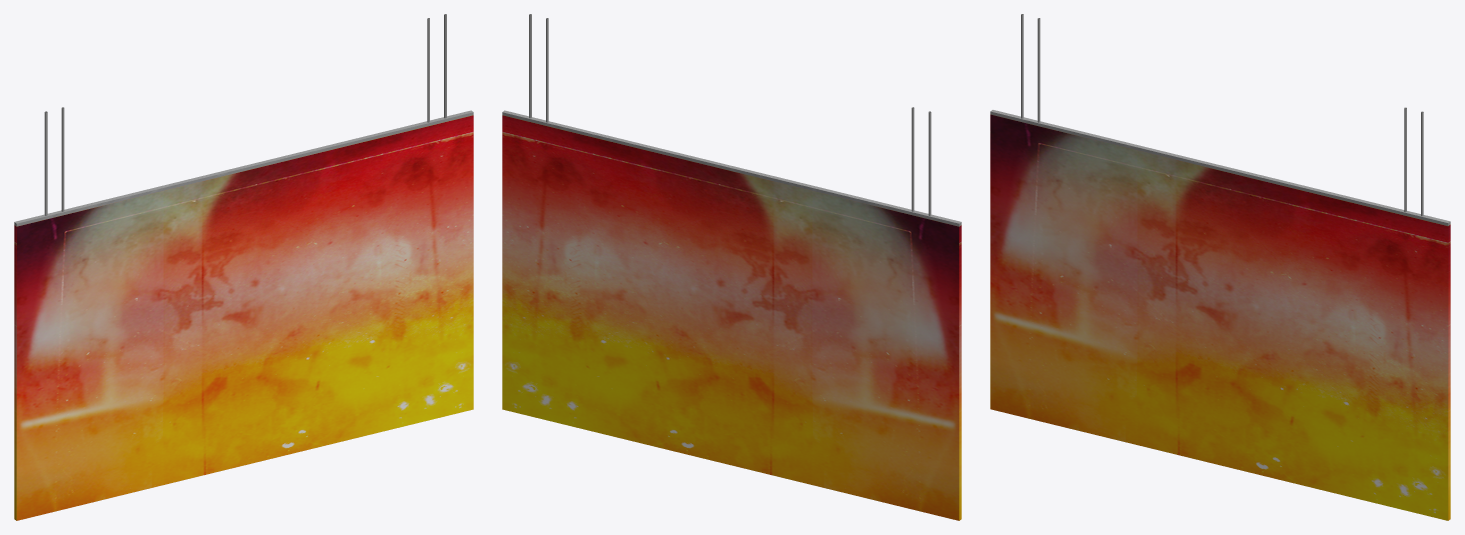
Rendered from Picture3.fbx.
3 views of the same model, side by side, from view 1: azimuth 30°, elevation 25°; view 2: azimuth 150°, elevation 25°; view 3: azimuth 330°, elevation 25° (orthographic).
Visible parts, largest first — view 1: Empty_Mesh; view 2: Empty_Mesh; view 3: Empty_Mesh.
Part boxes in pixels (x1,y1,x2,y2): Empty_Mesh: (14, 14, 473, 520); Empty_Mesh: (502, 14, 961, 520); Empty_Mesh: (990, 14, 1450, 520).
Size of the model in its own units: 387 by 324 by 3.64.
